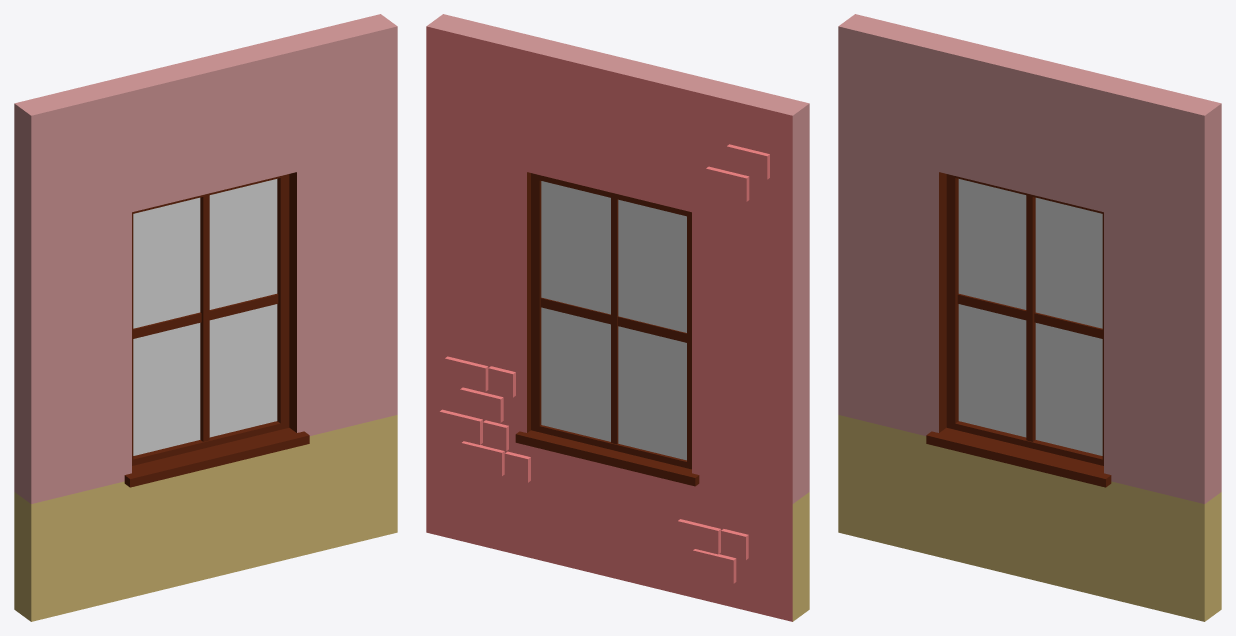
File: wall_window4.fbx
3 views of the same model, side by side, from view 1: azimuth 30°, elevation 25°; view 2: azimuth 150°, elevation 25°; view 3: azimuth 330°, elevation 25° (orthographic).
Visible parts, largest first — view 1: wall_window4.001, glass6; view 2: wall_window4.001, glass6; view 3: wall_window4.001, glass6.
Boxes of the visible parts, left/top/right/bottom form: wall_window4.001: left=14, top=14, right=397, bottom=621; glass6: left=133, top=179, right=277, bottom=455; wall_window4.001: left=426, top=14, right=809, bottom=621; glass6: left=541, top=181, right=686, bottom=460; wall_window4.001: left=838, top=14, right=1221, bottom=621; glass6: left=958, top=179, right=1102, bottom=455.
Bounding box in the file's own units: 211 × 279 × 26.33.
